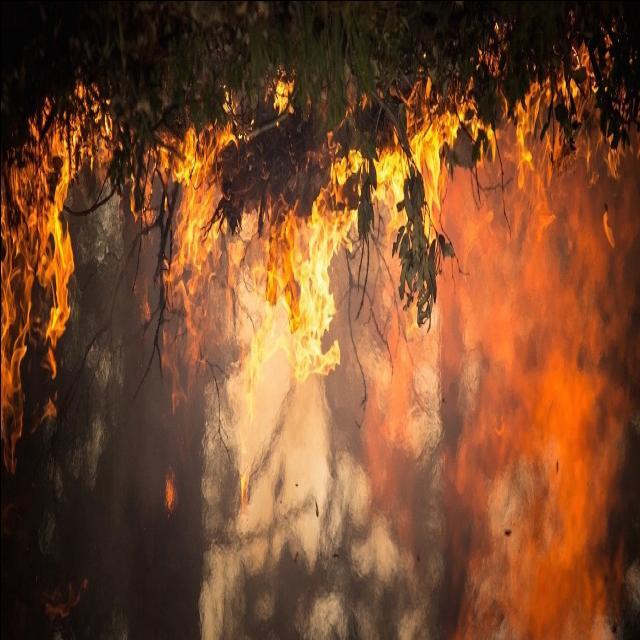Fire: (0, 59, 624, 598)
